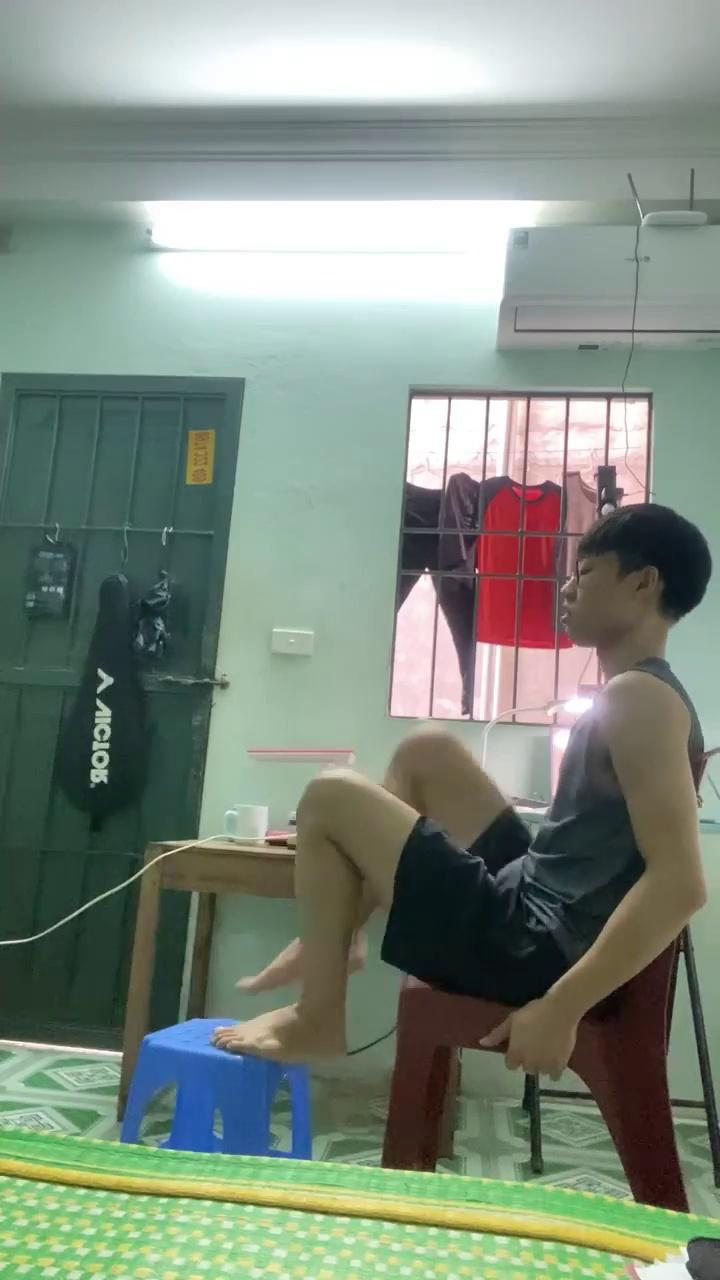BadPosture: (213, 729, 508, 1061)
